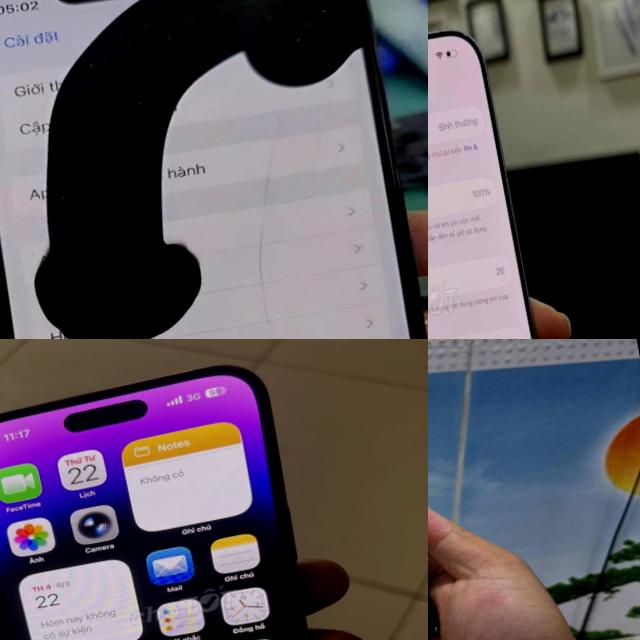gen_11: (0, 0, 428, 339)
gen_14: (0, 349, 358, 640)
gen_17: (428, 17, 574, 339)
